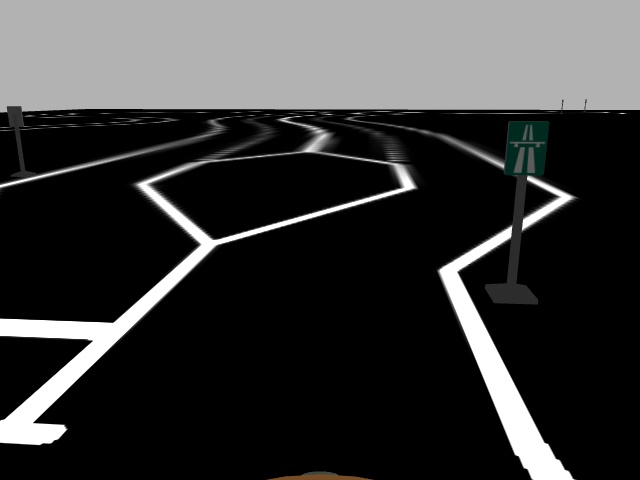enter_highway: (501, 120, 552, 176)
